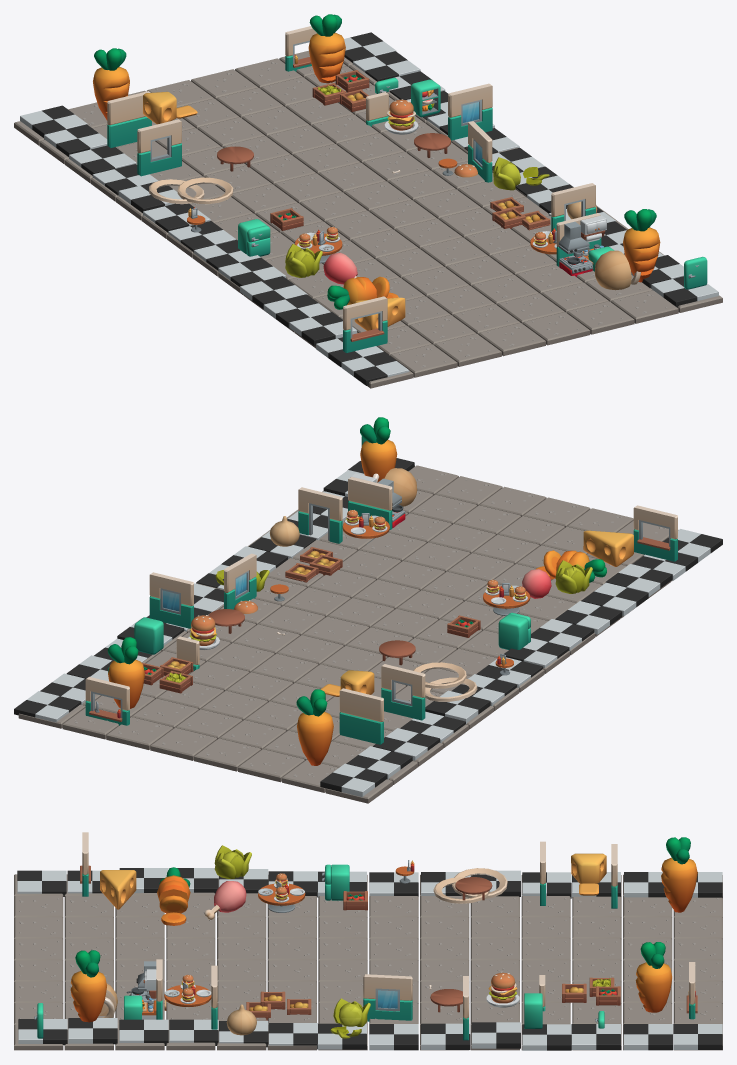
Rendered from gameboard2.glb.
The picture shows the model from 3 angles, top to bottom: view 1: azimuth 30°, elevation 25°; view 2: azimuth 150°, elevation 25°; view 3: azimuth 270°, elevation 25°; orthographic projection.
Parts seen in each view (by area): view 1: floor_dirt, wall_decorated, food_ingredient_carrot.001, food_ingredient_carrot, wall_window_closed.001, wall_window_open, wall_orderwindow, wall, food_ingredient_carrot.002, food_ingredient_carrot_chopped, food_ingredient_onion_rings, floor_kitchen.013 (+36 smaller); view 2: floor_dirt, wall, wall_window_closed.001, wall_decorated, food_ingredient_carrot.002, wall_window_open, wall_orderwindow, food_ingredient_carrot, food_ingredient_carrot.001, wall_doorway, wall_orderwindow_decorated, wall_window_closed (+33 smaller); view 3: floor_dirt, wall_window_closed, food_ingredient_carrot.002, food_ingredient_carrot, food_ingredient_carrot.001, food_ingredient_carrot_chopped, wall_decorated, floor_kitchen.016, floor_kitchen.023, floor_kitchen.026, floor_kitchen.027, floor_kitchen.025 (+50 smaller).
Boxes of the visible parts, <box> form: floor_dirt: <box>14,50,722,388</box>; wall_decorated: <box>556,213,606,277</box>; food_ingredient_carrot.001: <box>308,14,345,83</box>; food_ingredient_carrot: <box>623,209,660,282</box>; wall_window_closed.001: <box>448,83,492,140</box>; wall_window_open: <box>137,119,181,176</box>; wall_orderwindow: <box>343,296,387,352</box>; wall: <box>107,91,151,147</box>; food_ingredient_carrot.002: <box>93,48,129,120</box>; food_ingredient_carrot_chopped: <box>327,276,398,309</box>; food_ingredient_onion_rings: <box>149,177,233,204</box>; floor_kitchen.013: <box>341,352,409,385</box>; floor_dirt: <box>18,465,678,803</box>; wall: <box>339,688,383,744</box>; wall_window_closed.001: <box>149,572,193,628</box>; wall_decorated: <box>348,473,405,529</box>; food_ingredient_carrot.002: <box>296,689,333,765</box>; wall_window_open: <box>381,664,425,720</box>; wall_orderwindow: <box>633,505,677,561</box>; food_ingredient_carrot: <box>360,417,397,482</box>; food_ingredient_carrot.001: <box>107,637,144,708</box>; wall_doorway: <box>298,487,342,543</box>; wall_orderwindow_decorated: <box>85,676,129,725</box>; wall_window_closed: <box>224,553,256,609</box>; floor_dirt: <box>14,874,722,1050</box>; wall_window_closed: <box>363,974,412,1021</box>; food_ingredient_carrot.002: <box>661,837,697,912</box>; food_ingredient_carrot: <box>70,950,106,1022</box>; food_ingredient_carrot.001: <box>635,942,672,1012</box>; food_ingredient_carrot_chopped: <box>157,867,190,925</box>; wall_decorated: <box>126,959,162,1019</box>; floor_kitchen.016: <box>369,1024,418,1050</box>; floor_kitchen.023: <box>471,1022,520,1048</box>; floor_kitchen.026: <box>623,1024,672,1050</box>; floor_kitchen.027: <box>673,1024,722,1049</box>; floor_kitchen.025: <box>571,1024,620,1049</box>.
Bounding box in the file's own units: 33.68 × 8.37 × 57.56.
70 materials, 70 textured.
